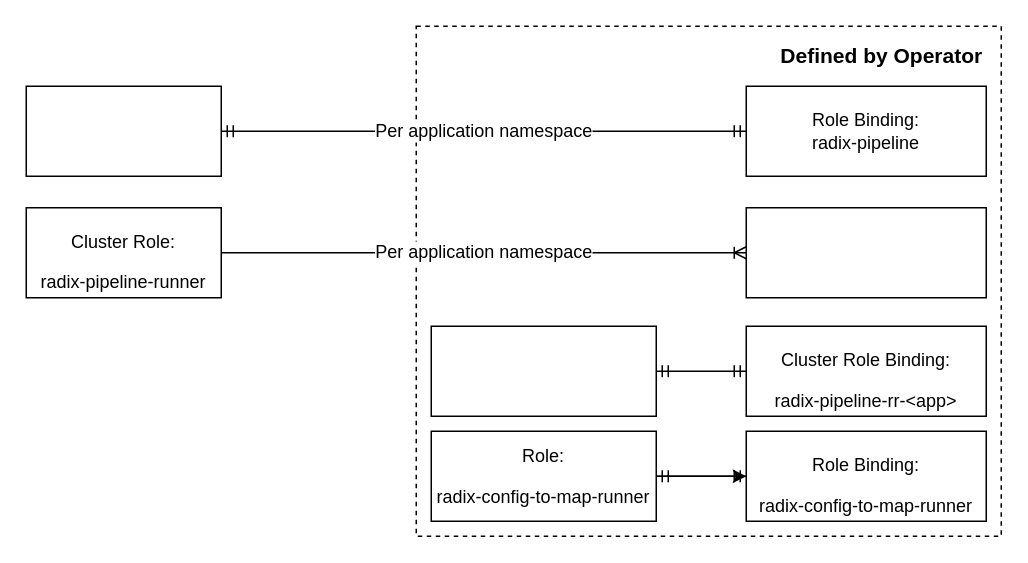
Image size: 1028x563. Some labels were removed from this diagram. The centre of each missing label's shape, as x and y in pixels:
Cluster Role Binding: radix-pipeline-runner-<app>: the point at 865,252
Cluster Role: radix-pipeline: the point at 123,130
Cluster Role: radix-pipeline-rr- <app>: the point at 543,370
